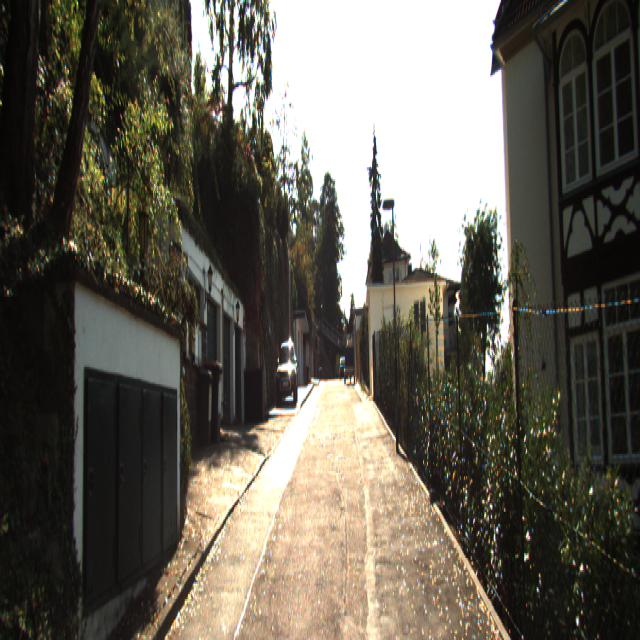Car: (277, 340, 297, 404), (344, 344, 356, 386)
